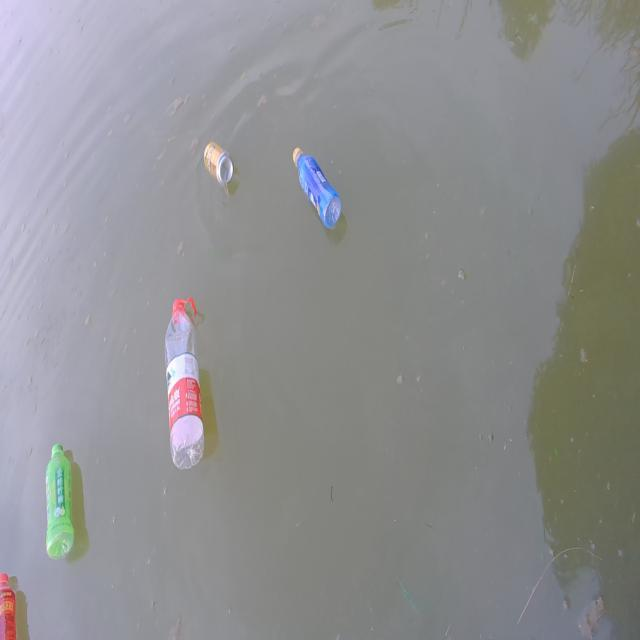garbage: (164, 296, 205, 470), (292, 145, 342, 229), (45, 442, 75, 558), (203, 140, 233, 187)
